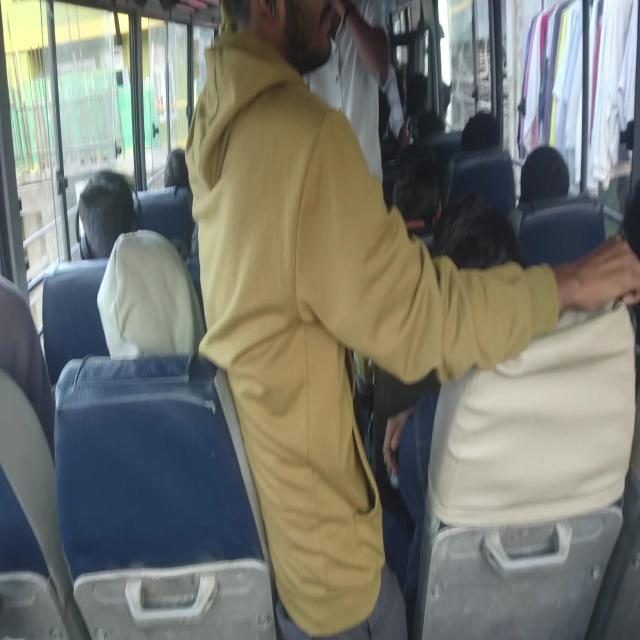person: (206, 5, 404, 449), (103, 223, 203, 368), (315, 0, 399, 135), (441, 219, 525, 313), (82, 155, 135, 268), (0, 291, 43, 375), (396, 170, 443, 245), (160, 144, 212, 209), (523, 149, 568, 213), (458, 109, 499, 161), (414, 64, 446, 107), (420, 116, 447, 143)
